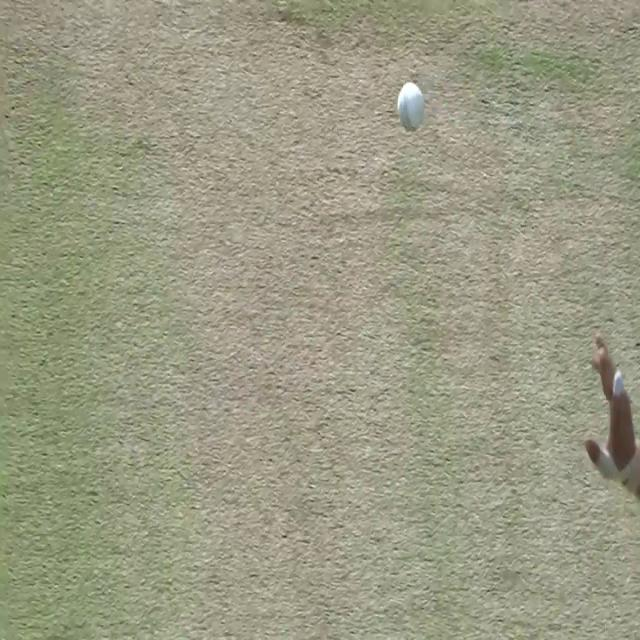ball: (396, 77, 426, 136)
